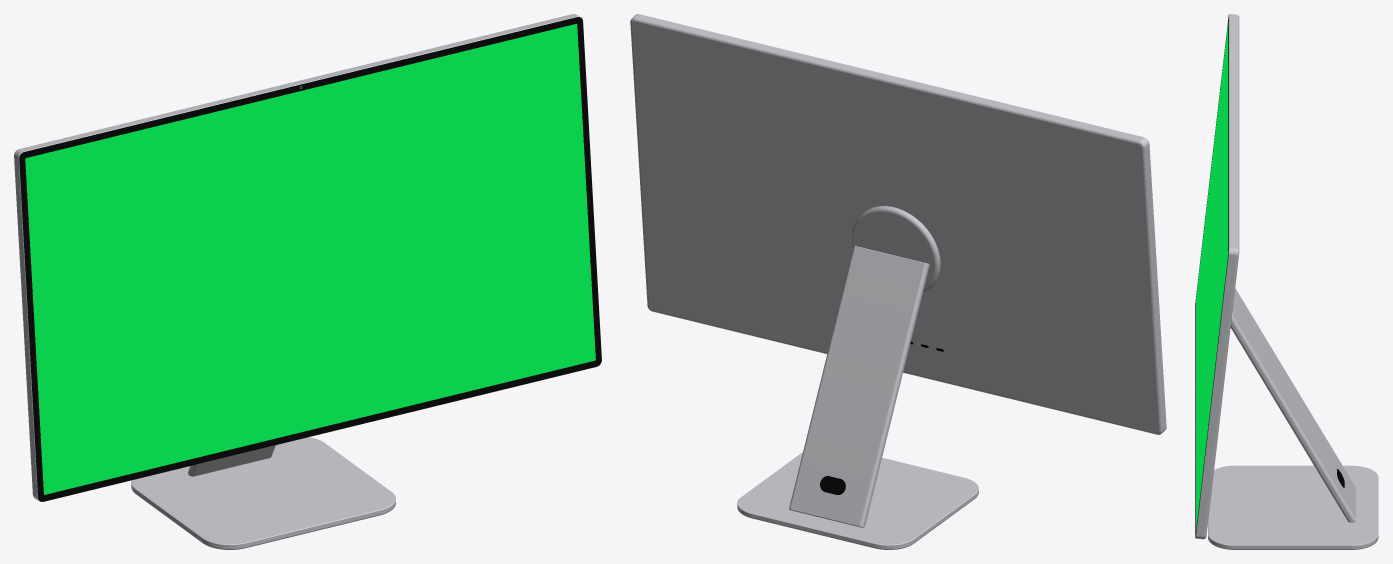
File: monitor-27.glb
The picture shows the model from 3 angles, left to right: view 1: azimuth 30°, elevation 25°; view 2: azimuth 150°, elevation 25°; view 3: azimuth 270°, elevation 25°; orthographic projection. The views are drawn at different scales.
Parts seen in each view (by area): view 1: Screen, Foot, Bezel, PanelShell, PanelChamfer, NeckBody; view 2: PanelBack, NeckBody, Foot, PanelShell, Mount; view 3: Foot, Screen, NeckBody, PanelShell, Bezel, PanelChamfer, FootChamfer.
Boxes of the visible parts, bbox=[...] form: Screen: bbox=[25, 24, 595, 494]; Foot: bbox=[131, 437, 395, 549]; Bezel: bbox=[19, 17, 601, 501]; PanelShell: bbox=[14, 14, 578, 500]; PanelChamfer: bbox=[18, 16, 601, 501]; NeckBody: bbox=[188, 445, 275, 476]; PanelBack: bbox=[632, 21, 1158, 433]; NeckBody: bbox=[789, 246, 929, 527]; Foot: bbox=[737, 452, 978, 549]; PanelShell: bbox=[630, 14, 1166, 434]; Mount: bbox=[851, 206, 940, 293]; Foot: bbox=[1208, 465, 1378, 549]; Screen: bbox=[1196, 22, 1228, 530]; NeckBody: bbox=[1230, 288, 1355, 522]; PanelShell: bbox=[1196, 14, 1239, 539]; Bezel: bbox=[1195, 15, 1228, 537]; PanelChamfer: bbox=[1195, 14, 1229, 538]; FootChamfer: bbox=[1208, 474, 1378, 545].
Size of the model in its own units: 0.6103 by 0.4538 by 0.1985.
